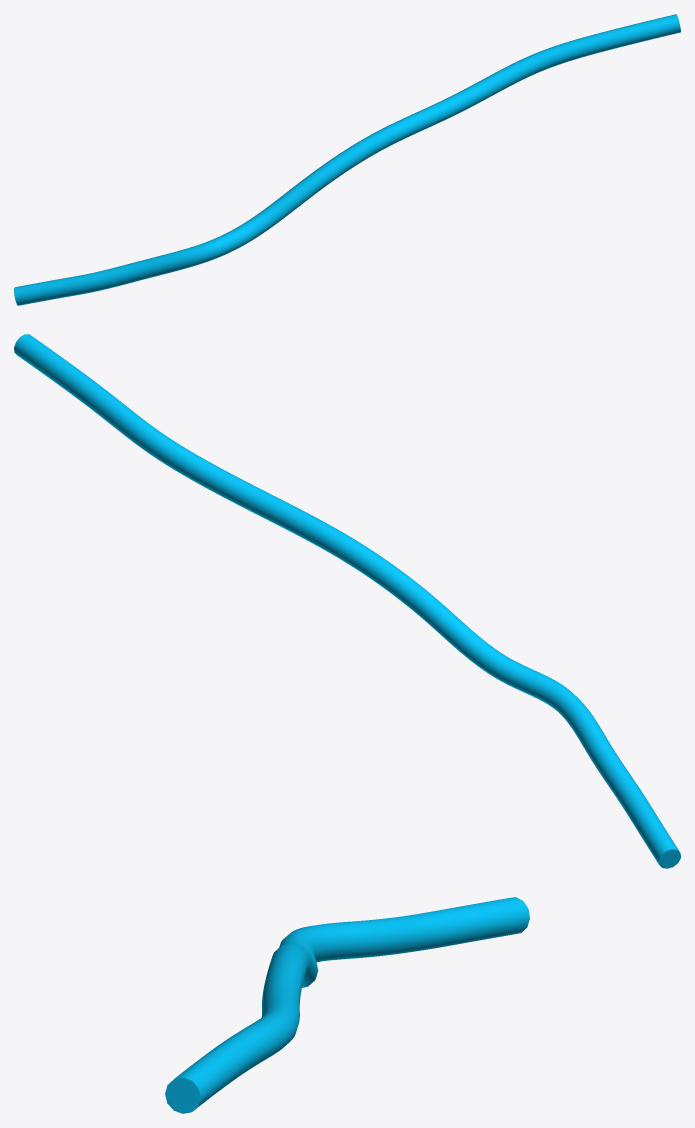
The model's file is RouteGuide.obj.
3 views of the same model, one above another, from view 1: azimuth 30°, elevation 25°; view 2: azimuth 150°, elevation 25°; view 3: azimuth 270°, elevation 25° (orthographic). The views are drawn at different scales.
Visible parts, largest first — view 1: RouteGuide; view 2: RouteGuide; view 3: RouteGuide.
Boxes of the visible parts, x1,y1,x2,y2 form: RouteGuide: [14, 14, 680, 305]; RouteGuide: [14, 334, 680, 868]; RouteGuide: [165, 897, 529, 1113].
Bounding box in the file's own units: 6.09 × 2.08 × 1.64.
